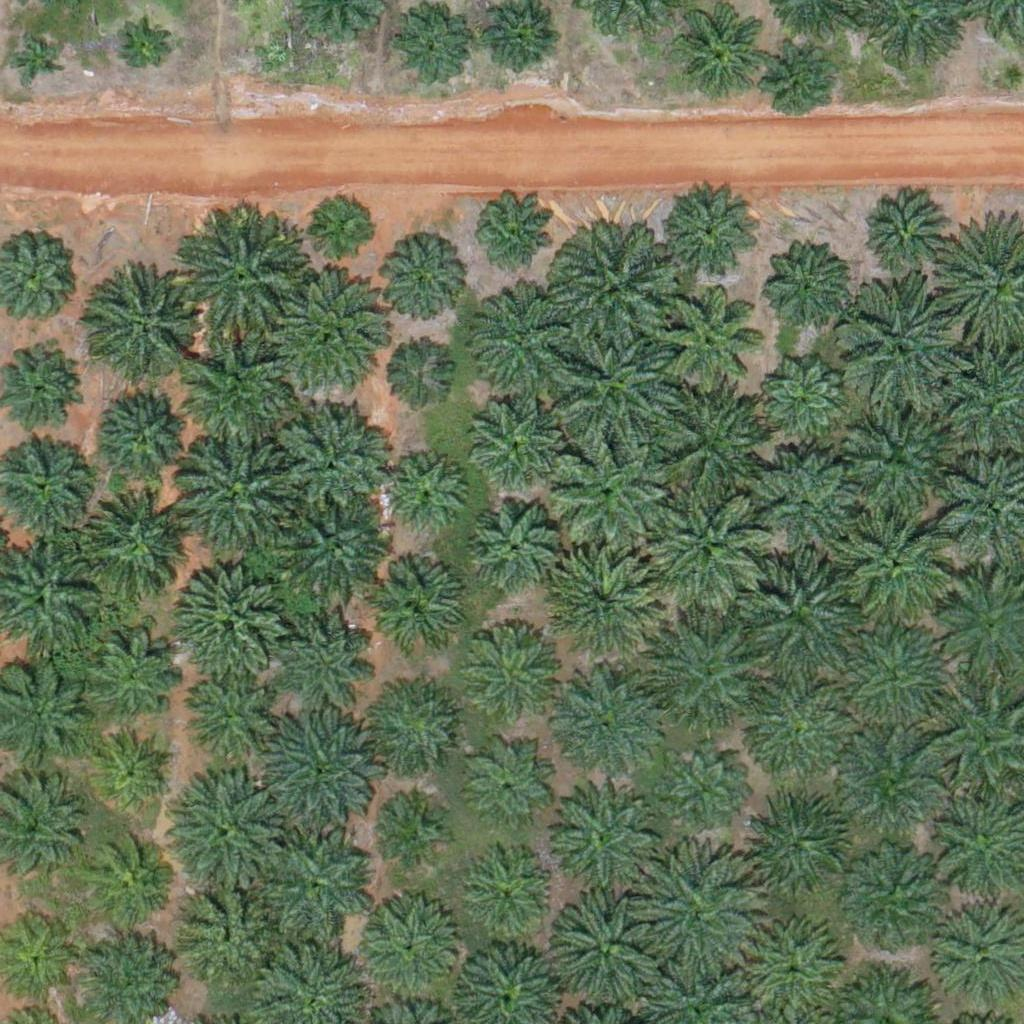Kelapa_Sawit: (843, 285, 968, 411), (629, 847, 754, 973), (651, 486, 776, 612), (550, 226, 675, 352), (180, 221, 305, 347), (554, 320, 679, 445), (544, 548, 657, 662), (548, 893, 661, 1007), (280, 276, 393, 390), (76, 489, 189, 603), (839, 626, 952, 739), (842, 510, 955, 623), (740, 557, 853, 670), (654, 619, 767, 732), (555, 433, 668, 546), (548, 782, 661, 895), (469, 281, 582, 394), (356, 896, 469, 1009), (262, 711, 375, 824), (183, 339, 296, 452), (174, 440, 287, 553), (171, 560, 284, 673), (69, 620, 182, 733), (179, 778, 291, 892), (836, 404, 948, 517), (739, 673, 851, 786), (656, 386, 768, 499), (546, 671, 658, 784), (261, 829, 373, 942), (280, 491, 392, 604), (275, 404, 387, 517), (842, 736, 942, 837), (756, 452, 856, 553), (741, 916, 841, 1017), (663, 295, 763, 396), (661, 184, 761, 285), (278, 598, 378, 699), (98, 382, 198, 483), (842, 843, 942, 943), (367, 560, 467, 660), (182, 881, 282, 981), (93, 280, 193, 380), (377, 238, 465, 327), (88, 728, 176, 816), (755, 800, 843, 888), (464, 850, 552, 938), (468, 396, 556, 484), (378, 450, 466, 538), (177, 674, 265, 762), (80, 840, 168, 928), (671, 6, 759, 94), (469, 192, 556, 280), (471, 626, 558, 714), (470, 500, 557, 588), (372, 681, 459, 769), (379, 343, 454, 419), (868, 201, 943, 277), (769, 249, 844, 325), (767, 366, 842, 442), (474, 752, 549, 828), (484, 3, 559, 79), (395, 7, 470, 83), (668, 742, 743, 817), (313, 195, 376, 258), (381, 800, 444, 863), (766, 47, 829, 110), (117, 25, 167, 76), (10, 34, 60, 85)
